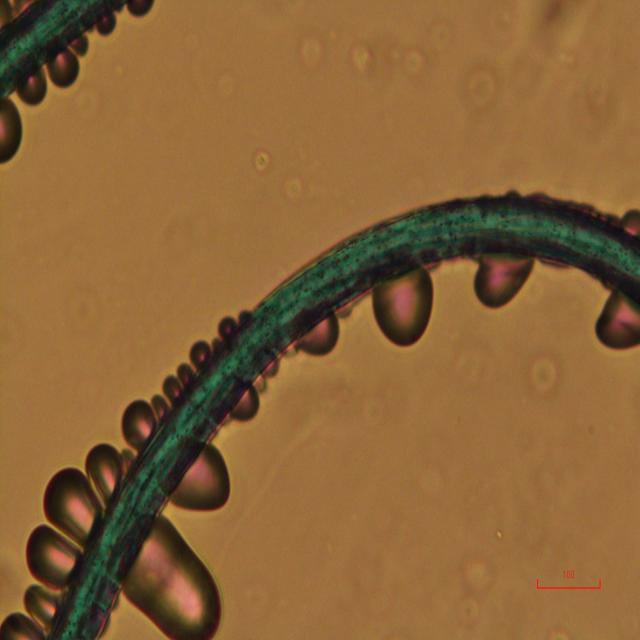Air bubble: (120, 518, 222, 636), (371, 273, 435, 347), (42, 469, 99, 544), (472, 255, 534, 312), (176, 448, 232, 511), (24, 524, 80, 585), (595, 291, 640, 353), (84, 446, 124, 496), (121, 399, 157, 450), (304, 315, 341, 362), (0, 98, 23, 165), (52, 51, 84, 96), (0, 609, 45, 638), (24, 587, 61, 619), (234, 388, 264, 427), (20, 72, 49, 110), (189, 338, 211, 369), (125, 1, 158, 21), (96, 15, 120, 42), (619, 204, 640, 234), (161, 376, 183, 403), (150, 391, 168, 421), (217, 314, 237, 340), (178, 362, 196, 389), (71, 36, 91, 56)
Background material: (576, 75, 626, 142), (517, 0, 579, 50), (459, 548, 496, 621), (448, 347, 496, 400), (464, 63, 500, 116), (528, 350, 564, 398), (501, 63, 545, 100), (401, 45, 427, 84), (297, 35, 323, 74), (351, 41, 375, 78), (283, 176, 305, 203), (253, 149, 274, 175)
Microfibre: (48, 195, 640, 638), (0, 2, 122, 102)
